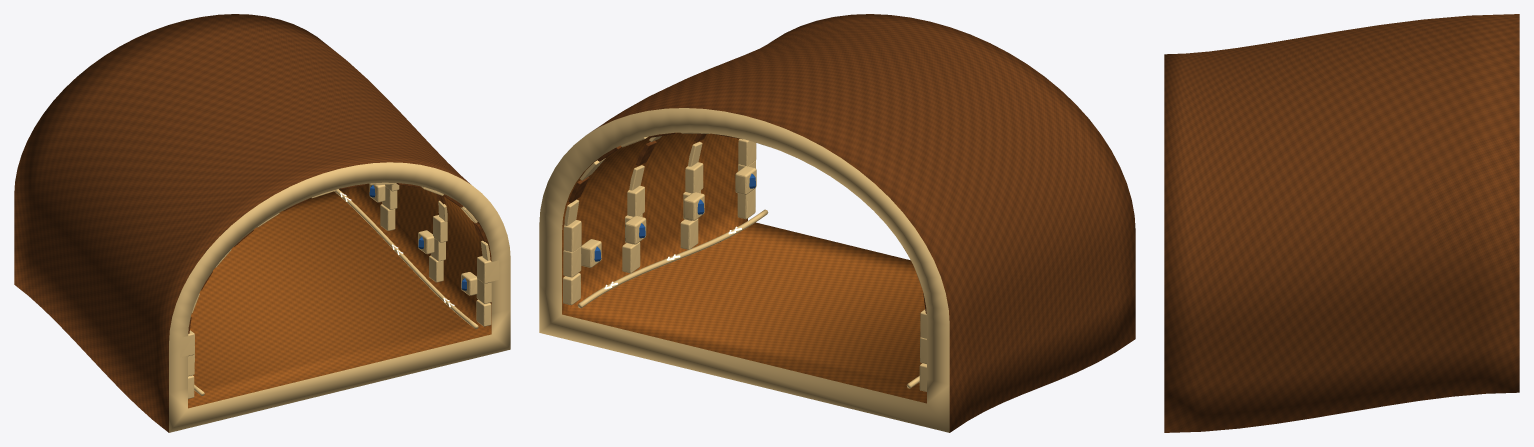
File: grade_up.glb
3 views of the same model, side by side, from view 1: azimuth 30°, elevation 25°; view 2: azimuth 150°, elevation 25°; view 3: azimuth 270°, elevation 25° (orthographic). The views are drawn at different scales.
Visible parts, largest first — view 1: TunnelGeometry; view 2: TunnelGeometry; view 3: TunnelGeometry.
Part boxes in pixels (x1,y1,x2,y2): TunnelGeometry: (14,14,510,432); TunnelGeometry: (539,14,1135,432); TunnelGeometry: (1164,14,1519,432).
Size of the model in its own units: 15.3 by 11.02 by 12.
Materials: 5 (2 with a texture image).
